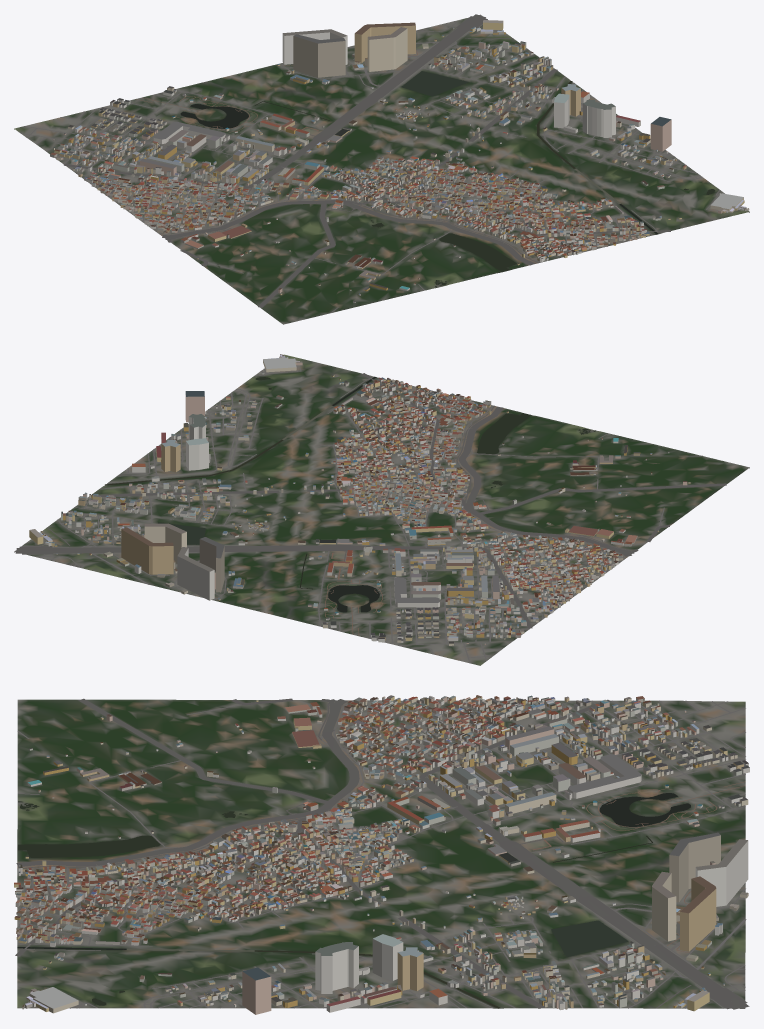
3 views of the same model, one above another, from view 1: azimuth 30°, elevation 25°; view 2: azimuth 150°, elevation 25°; view 3: azimuth 270°, elevation 25° (orthographic). The views are drawn at different scales.
Visible parts, largest first — view 1: ground, buildings, roads, water; view 2: ground, buildings, roads, water; view 3: ground, buildings, roads, water.
Boxes of the visible parts, x1=… form: ground: x1=14, y1=14, x2=749, y2=324; buildings: x1=50, y1=20, x2=749, y2=302; roads: x1=20, y1=14, x2=720, y2=313; water: x1=180, y1=71, x2=715, y2=287; ground: x1=14, y1=354, x2=749, y2=665; buildings: x1=29, y1=354, x2=690, y2=645; roads: x1=15, y1=368, x2=726, y2=663; water: x1=105, y1=376, x2=596, y2=612; ground: x1=17, y1=699, x2=745, y2=1008; buildings: x1=14, y1=695, x2=749, y2=1014; roads: x1=15, y1=698, x2=749, y2=1009; water: x1=17, y1=793, x2=690, y2=1008.
Size of the model in its own units: 1436 by 102 by 1417.
